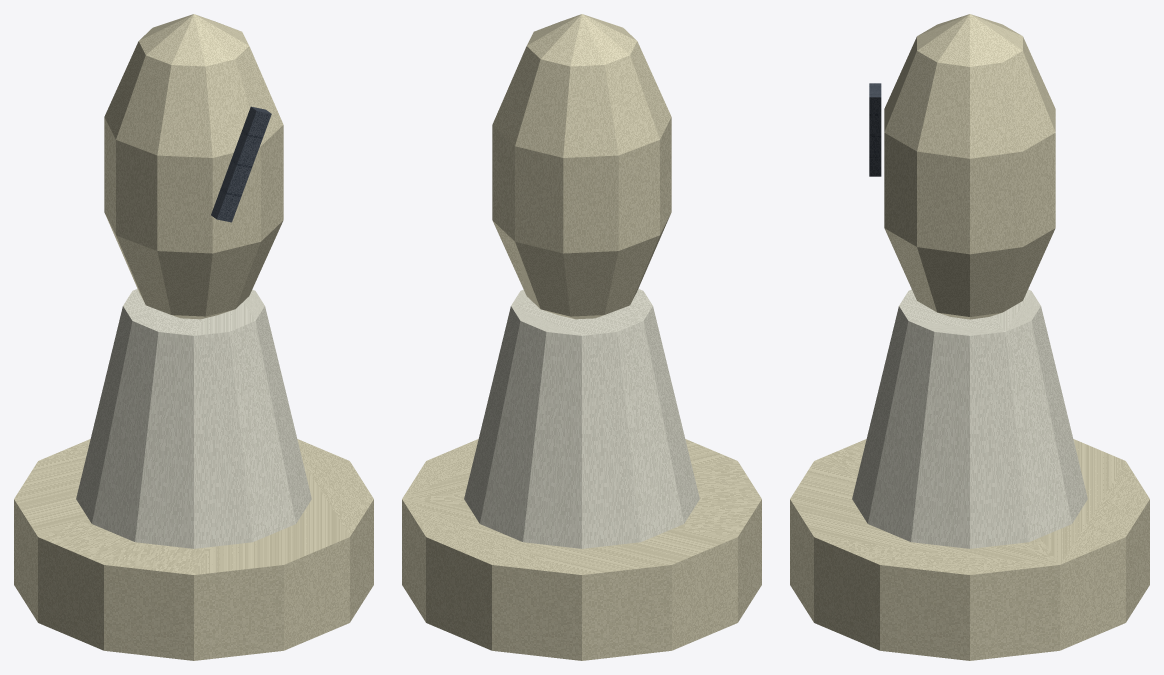
The model's file is chess_bishop.glb.
The picture shows the model from 3 angles, left to right: view 1: azimuth 30°, elevation 25°; view 2: azimuth 150°, elevation 25°; view 3: azimuth 270°, elevation 25°; orthographic projection.
Visible parts, largest first — view 1: base, pedestal, mitre, mitre_cut; view 2: base, pedestal, mitre; view 3: base, pedestal, mitre, mitre_cut.
Boxes of the visible parts, bbox=[...] form: base: bbox=[14, 439, 373, 660]; pedestal: bbox=[76, 289, 311, 548]; mitre: bbox=[104, 14, 283, 319]; mitre_cut: bbox=[211, 106, 271, 222]; base: bbox=[402, 439, 761, 660]; pedestal: bbox=[464, 289, 699, 548]; mitre: bbox=[492, 14, 671, 319]; base: bbox=[790, 439, 1149, 660]; pedestal: bbox=[852, 289, 1087, 548]; mitre: bbox=[884, 14, 1055, 319]; mitre_cut: bbox=[869, 83, 881, 176].
Bounding box in the file's own units: 0.76 × 1.33 × 0.76.
Materials: 1 (1 with a texture image).
